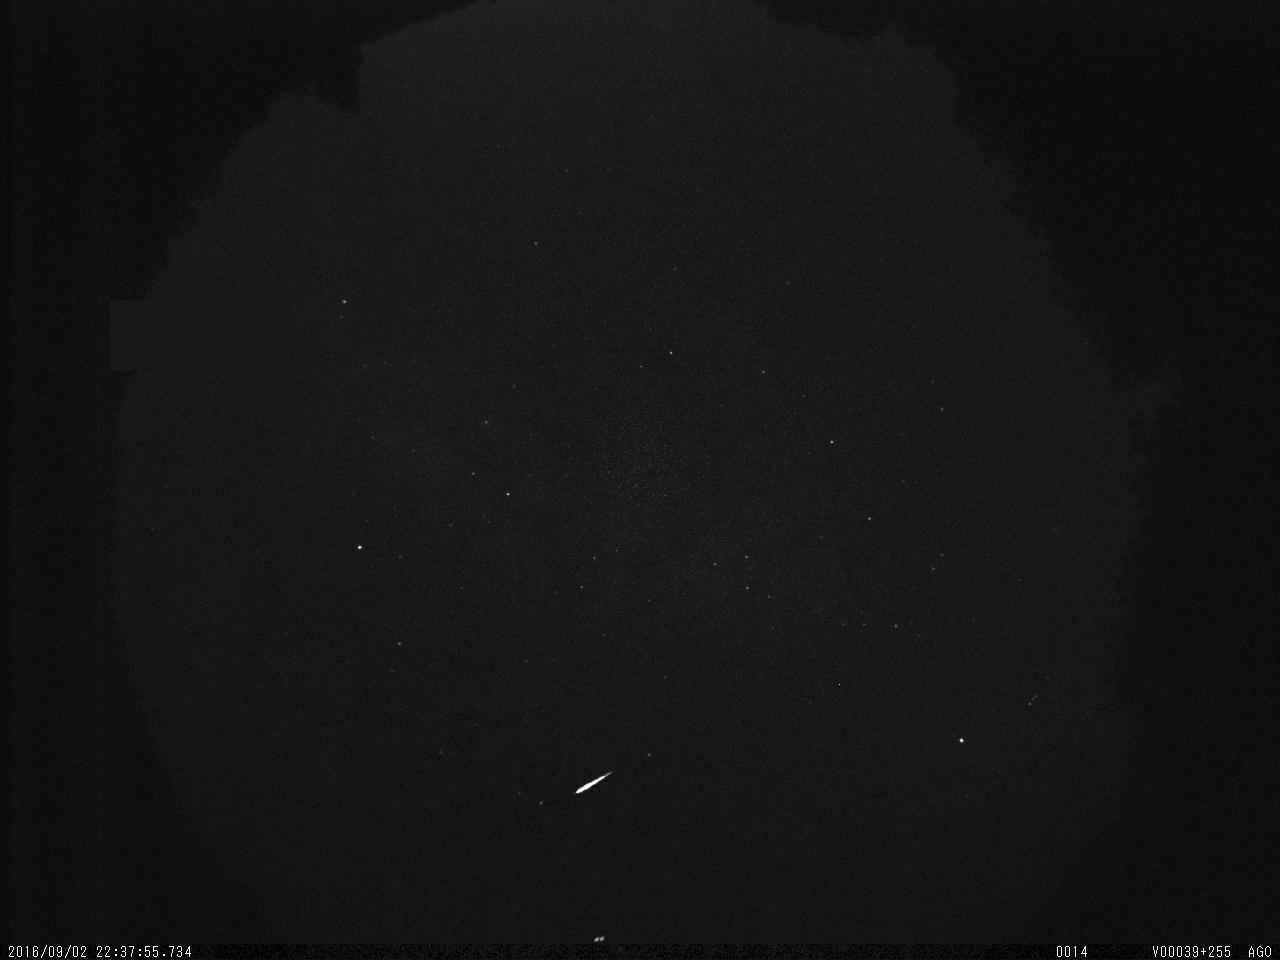meteor: (542, 760, 663, 818)
